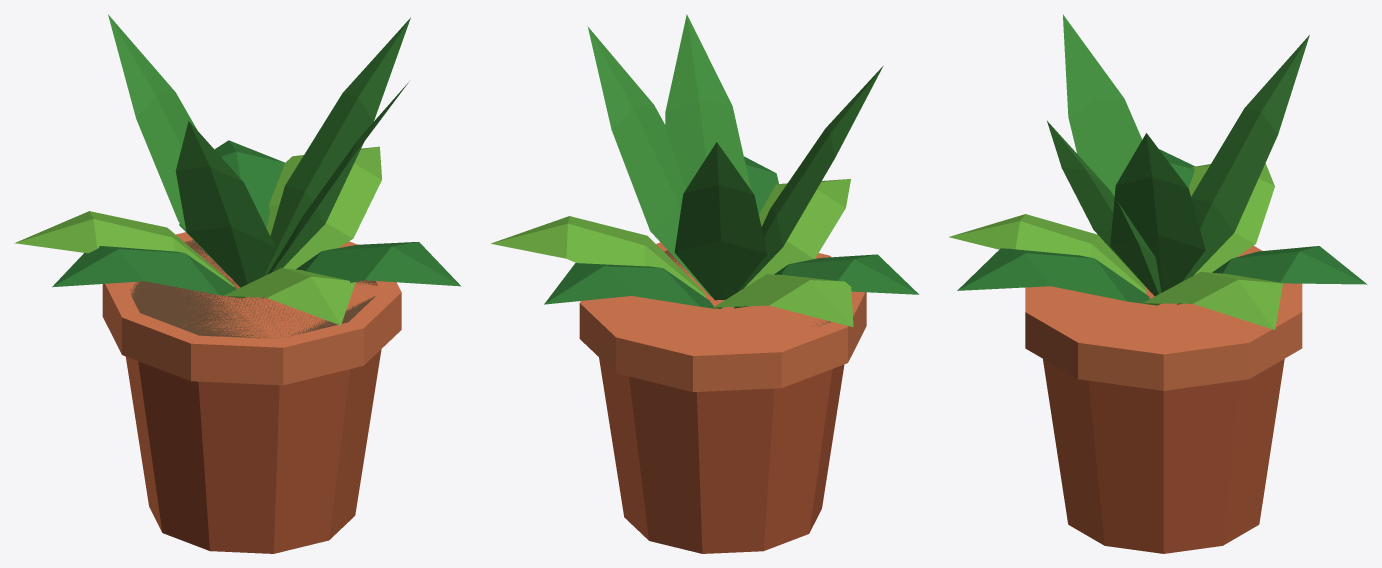
The model's file is planter_pot.glb.
3 views of the same model, side by side, from view 1: azimuth 30°, elevation 25°; view 2: azimuth 150°, elevation 25°; view 3: azimuth 270°, elevation 25° (orthographic). The views are drawn at different scales.
Parts seen in each view (by area): view 1: body; view 2: body; view 3: body.
Part boxes in pixels (x1,y1,x2,y2): body: (14,14,460,553); body: (491,14,919,553); body: (949,14,1367,553).
Size of the model in its own units: 0.8637 by 0.9878 by 0.8343.
